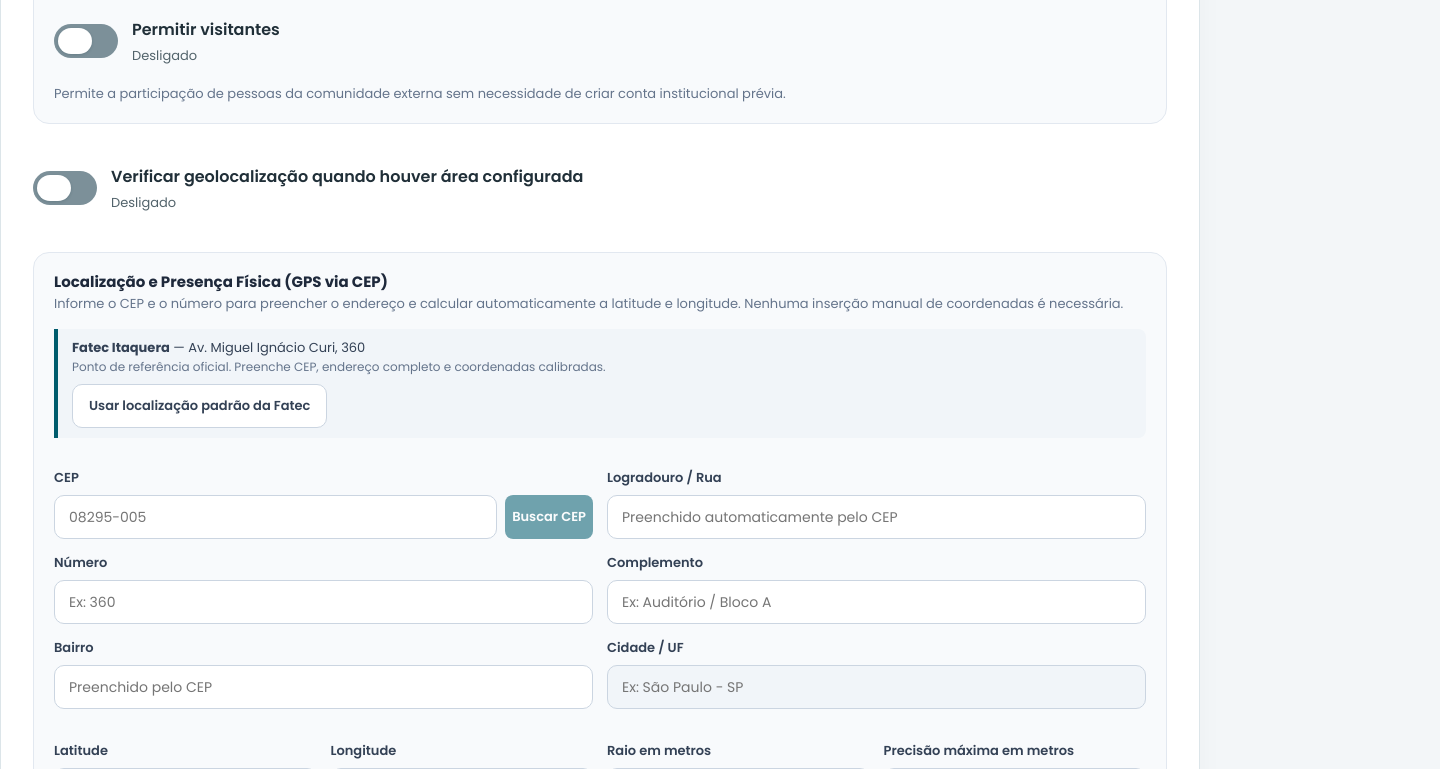
Test: Local padrão para configuração de eventos no formulário unificado › preenche as coordenadas e os limites padrão da Fatec ao clicar no botão de preset
This screenshot has width=1440, height=769.
(page scrolled)
Expected: the text "Av. Miguel Ignácio Curi, 360" is shown, [188,338,365,358]
Click the button "Usar localização padrão da Fatec".
click(200, 406)  # box [72,384,327,428]
(page scrolled)
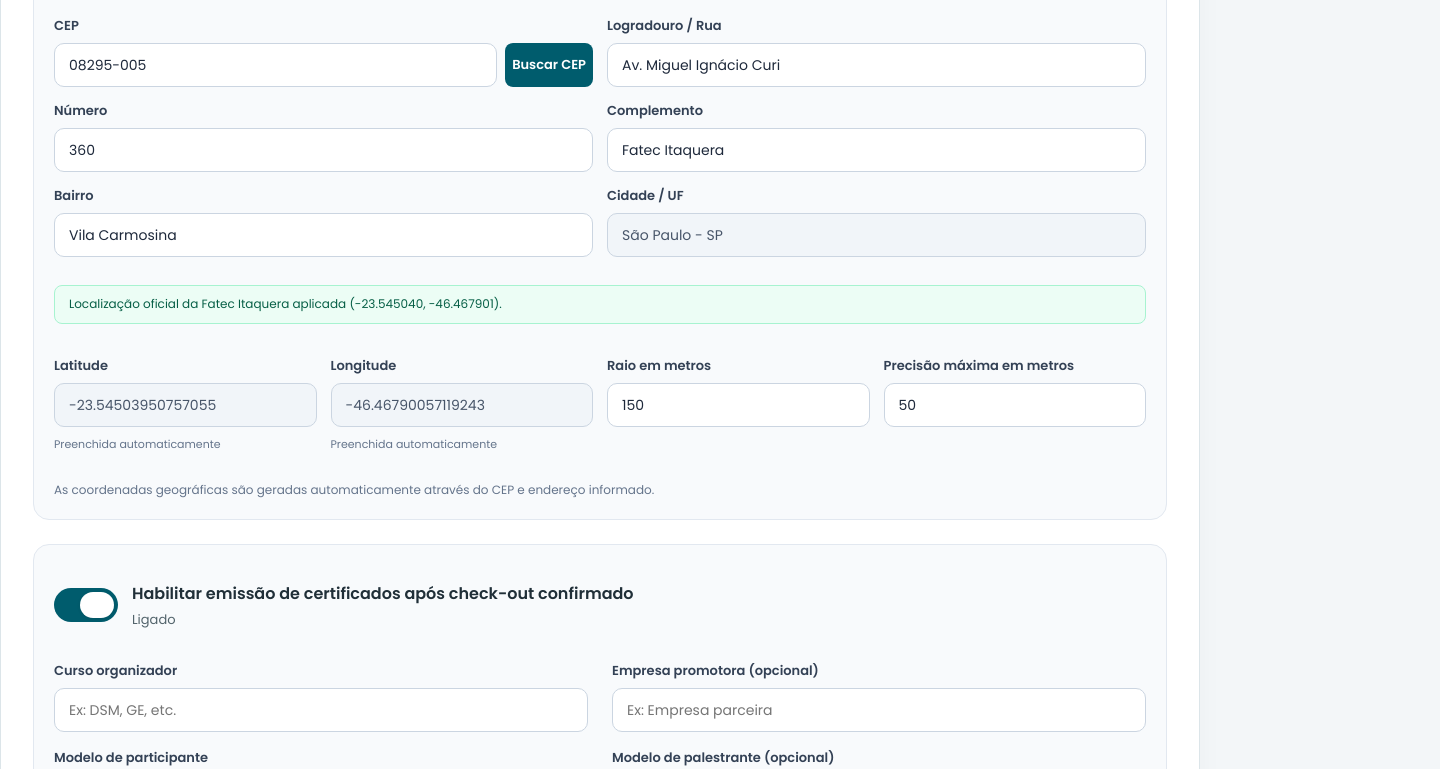
Now the number field labelled "Latitude" holds "-23.54503950757055", box [54,383,316,427]
Now the number field labelled "Longitude" holds "-46.46790057119243", box [330,383,593,427]
Now the number field labelled "Raio em metros" holds "150", box [607,383,870,427]
